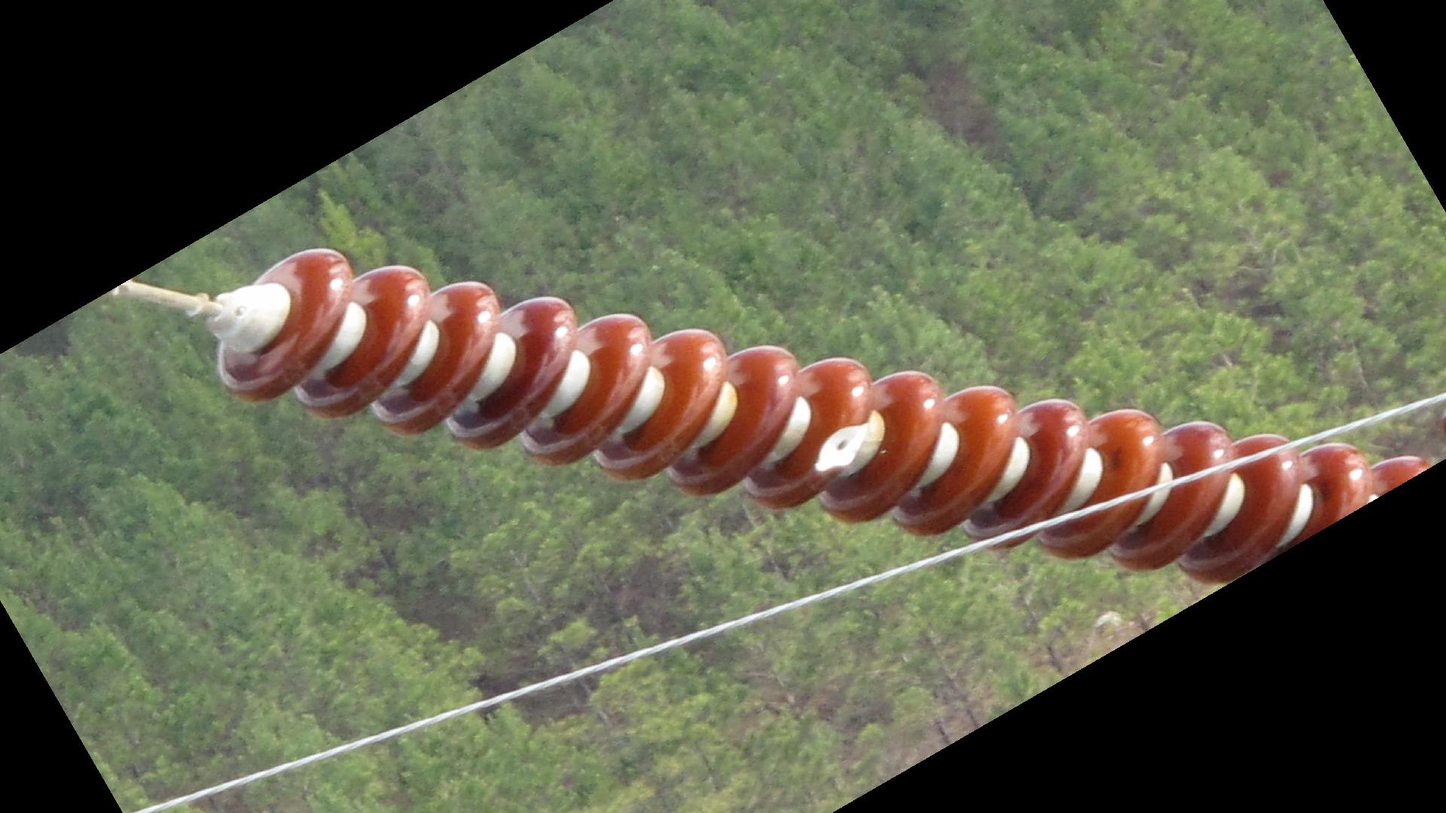insulator: (207, 240, 1446, 593)
insulator_breakage: (808, 418, 875, 480)
